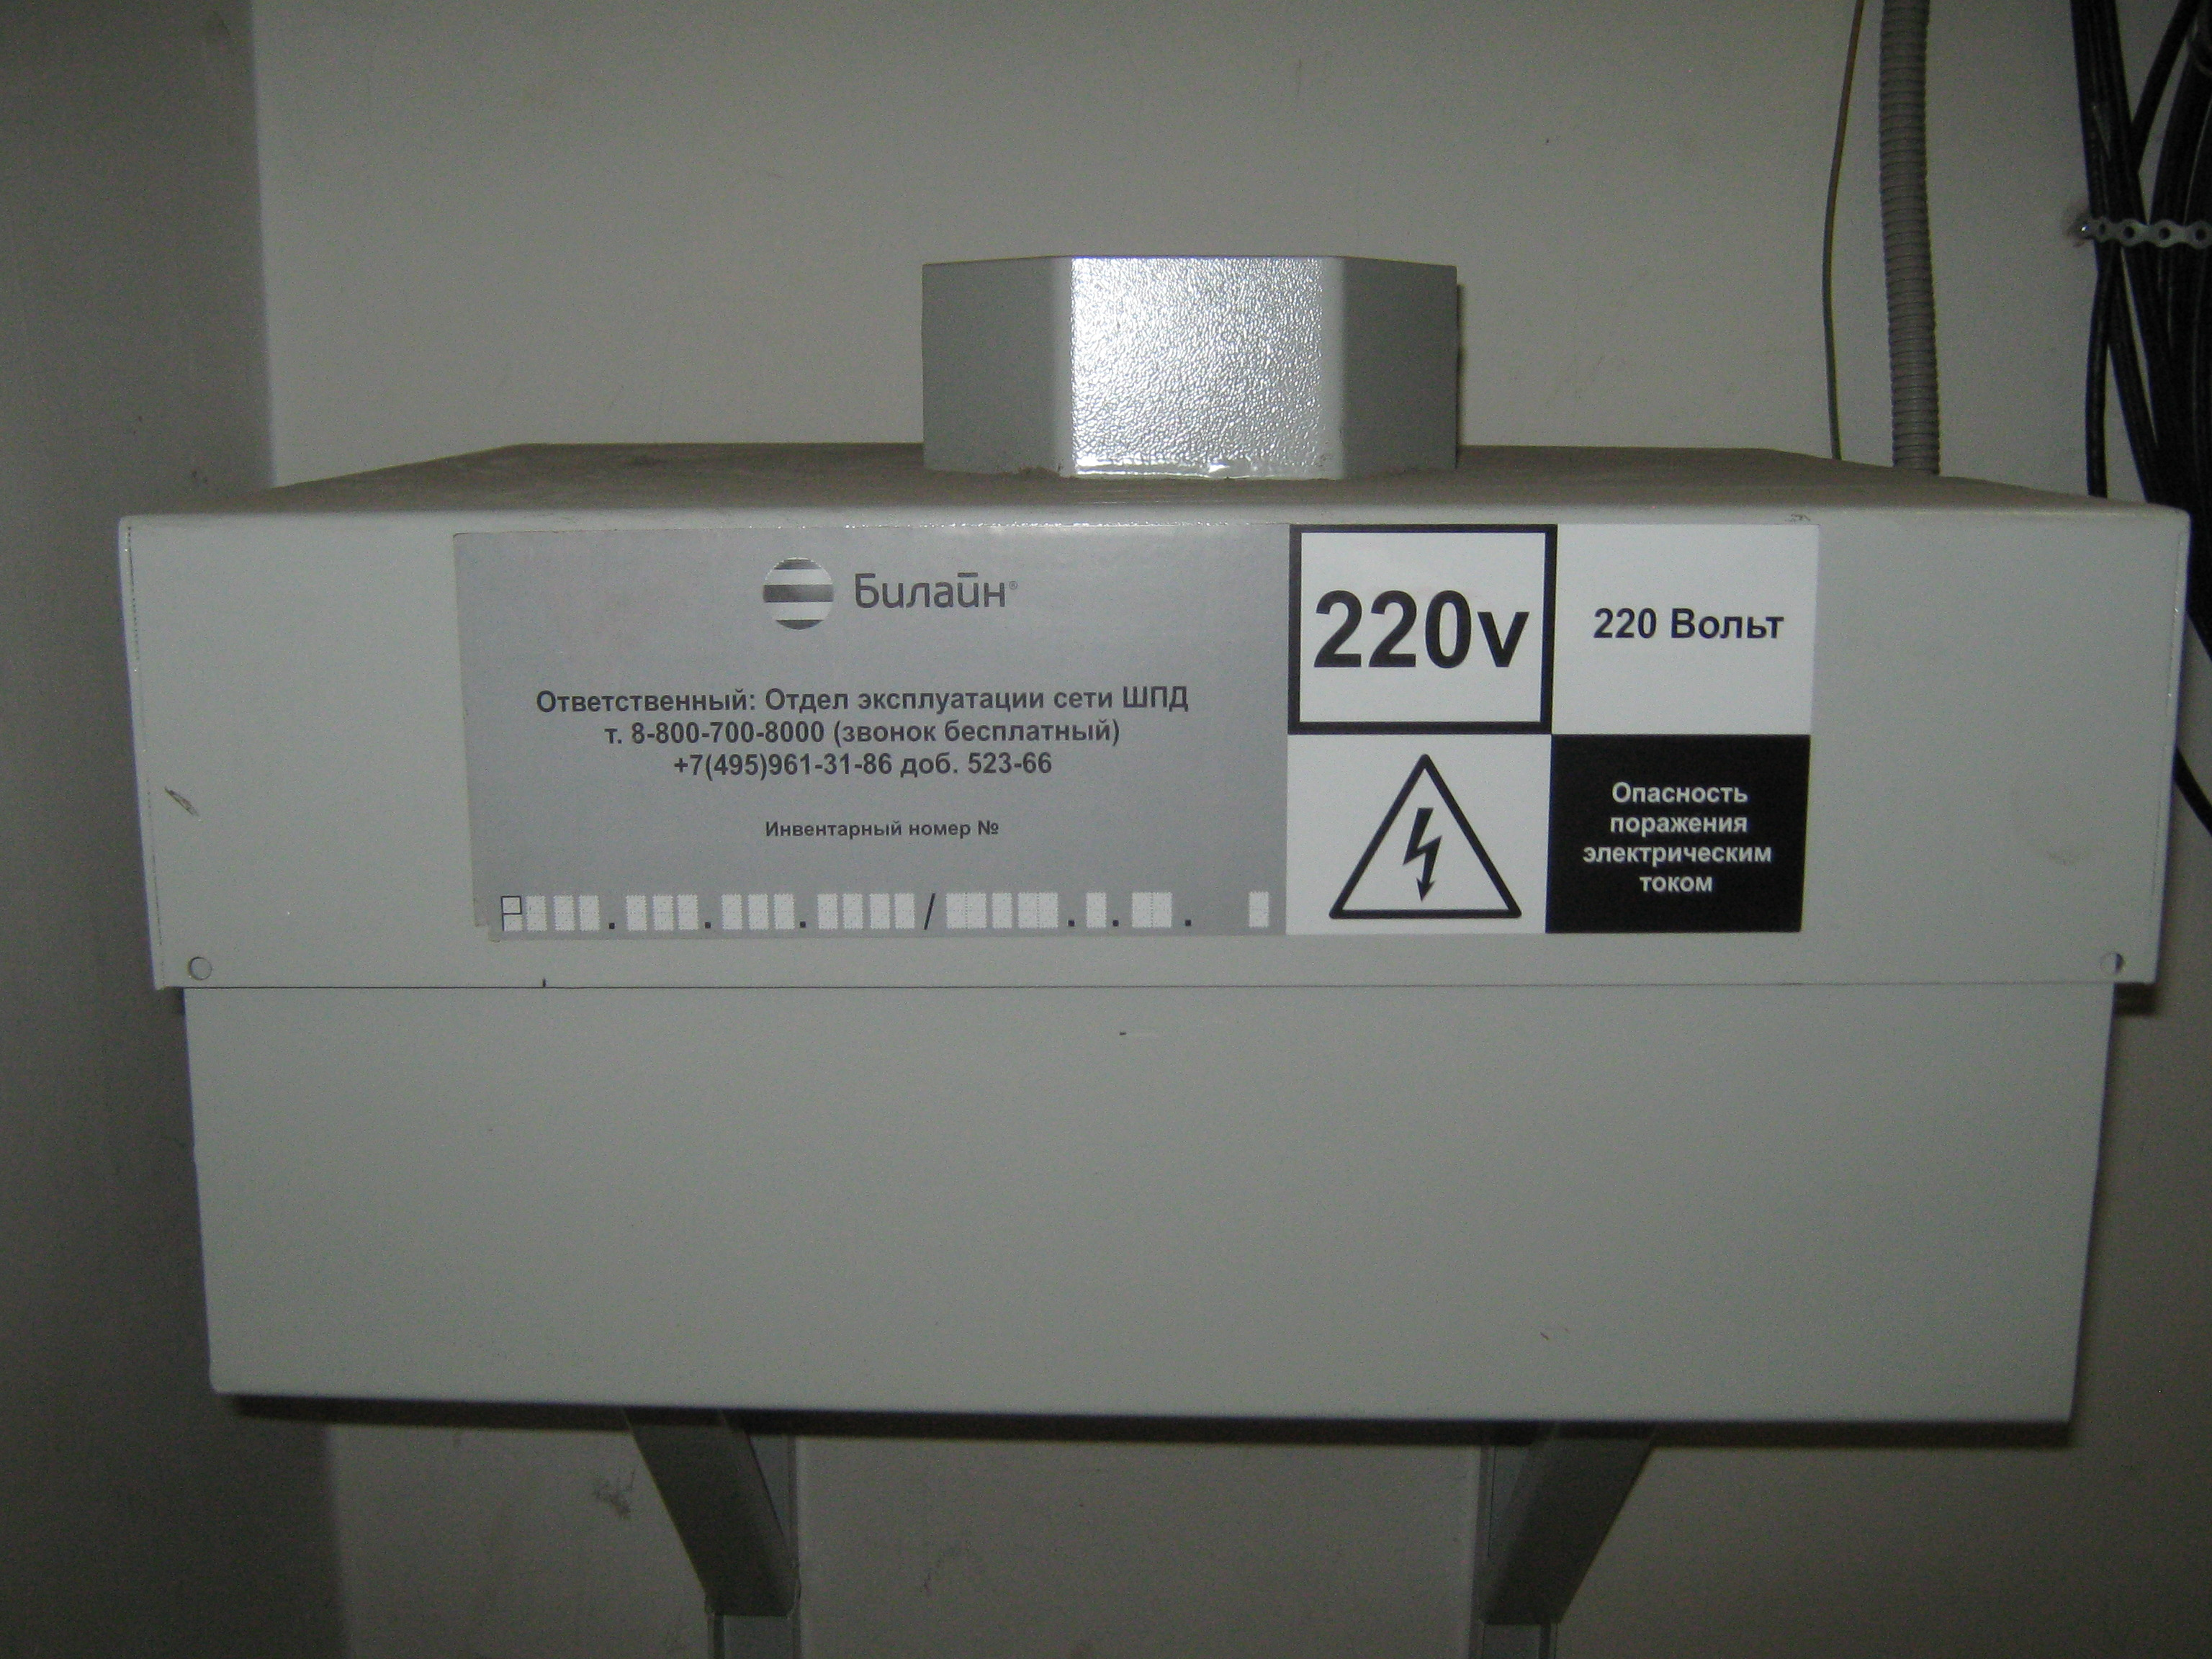shta-ps: (92, 221, 2198, 1445)
